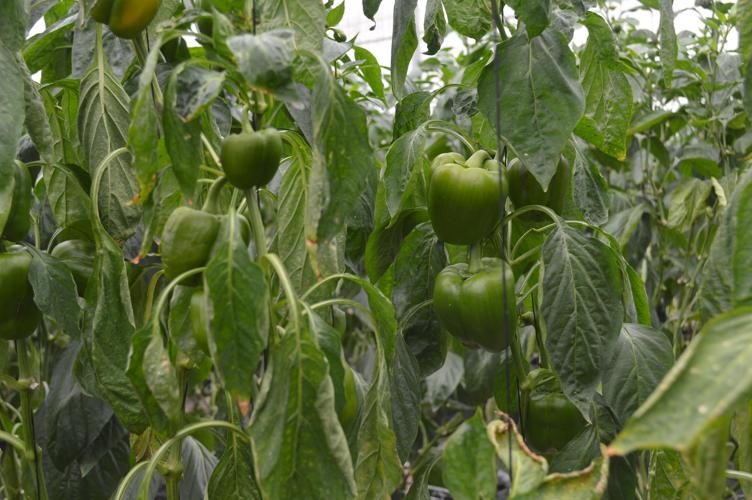BellPepper: (432, 255, 527, 351), (427, 138, 505, 250), (509, 128, 576, 239), (159, 208, 268, 274), (516, 382, 583, 473), (1, 243, 55, 342), (215, 121, 289, 189)
